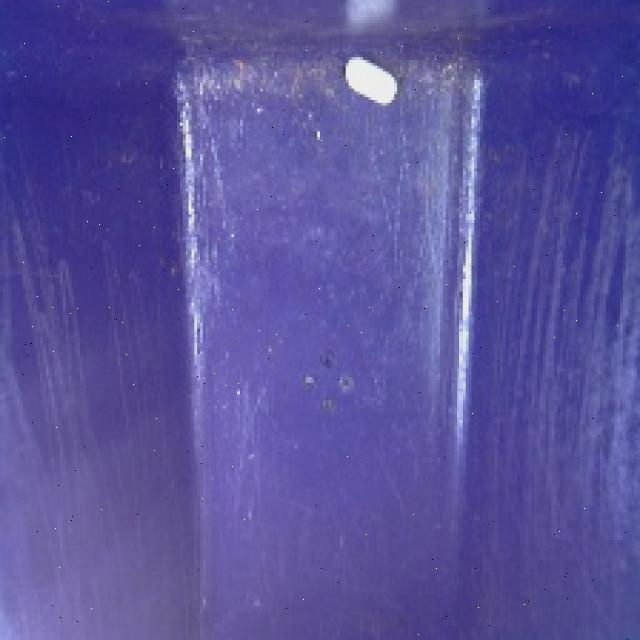small: (341, 44, 404, 119)
